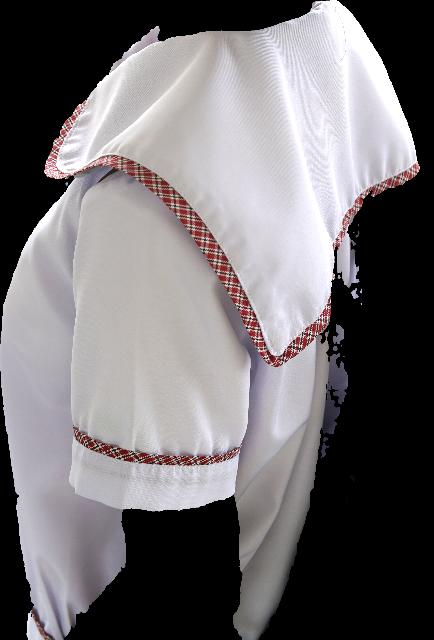pologirl: (0, 0, 419, 639)
